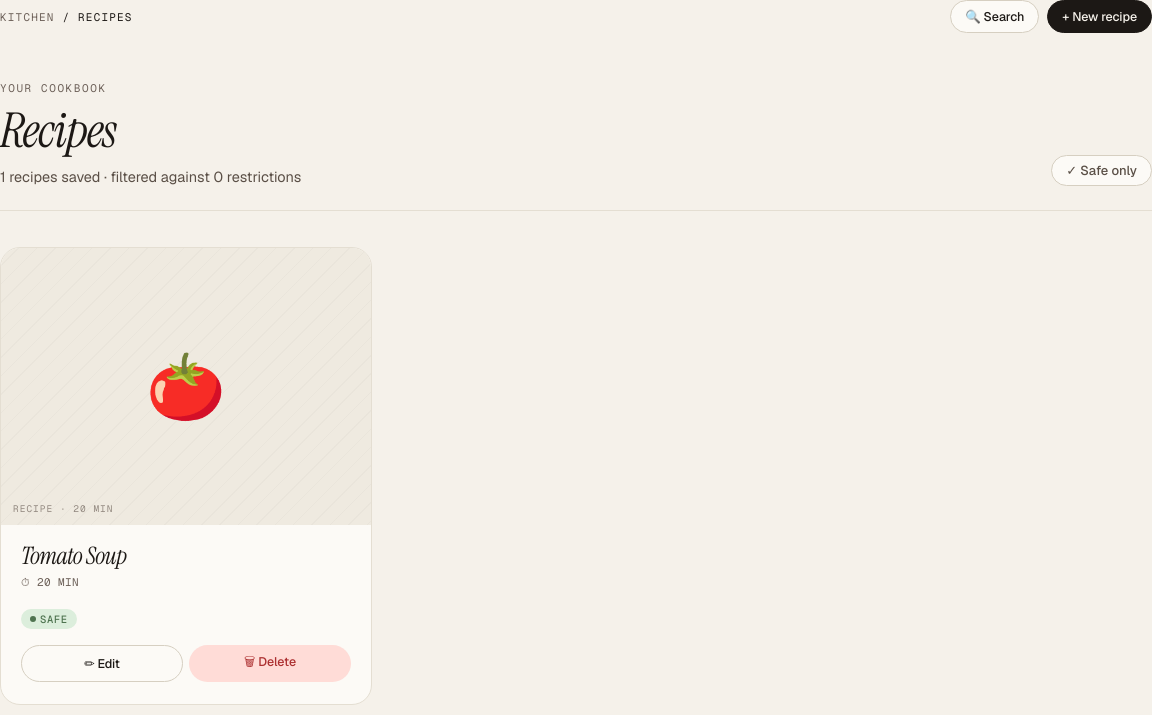
Test case: RecipesScreen – delete from detail view confirmation › shows a confirmation modal when Delete is clicked from the detail view
What coordinates should you click on to do the following:
click the text "Tomato Soup"
I would click on:
 (74, 556)
Its box is [21,540,126,572].
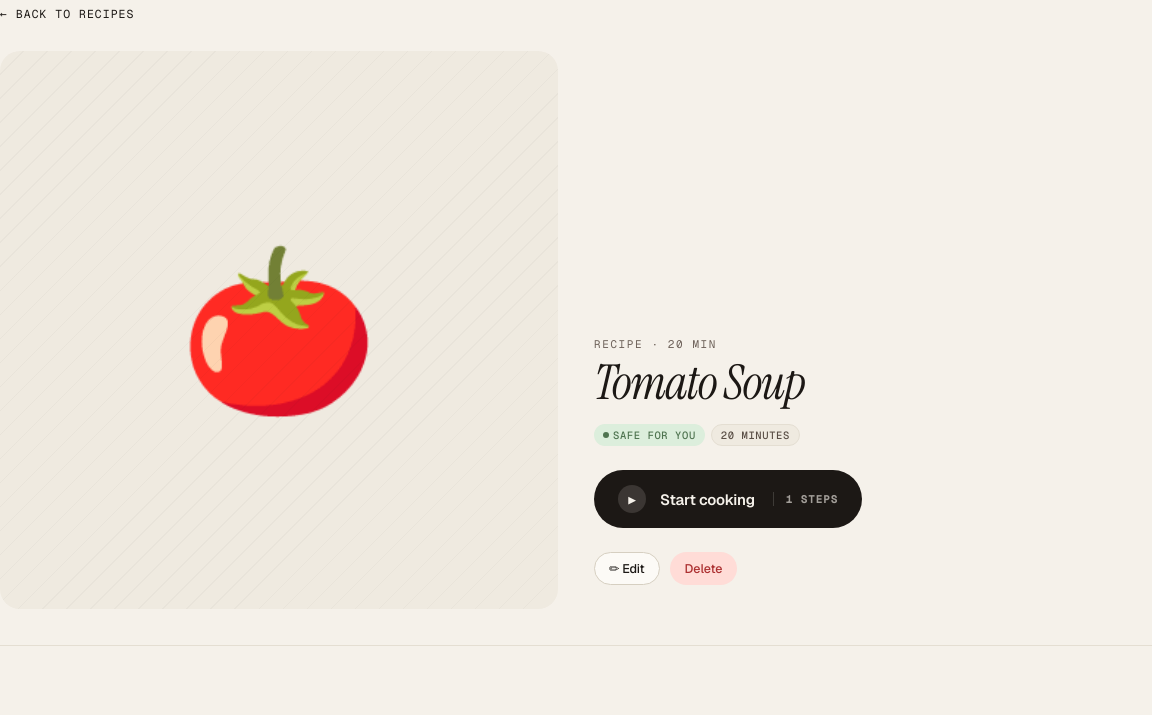
Expected: the button "← Back to recipes" is shown, [0,0,134,27]
What coordinates should you click on to do the following:
click the button "Delete"
I would click on:
 (703, 568)
Its box is [670,552,737,585].
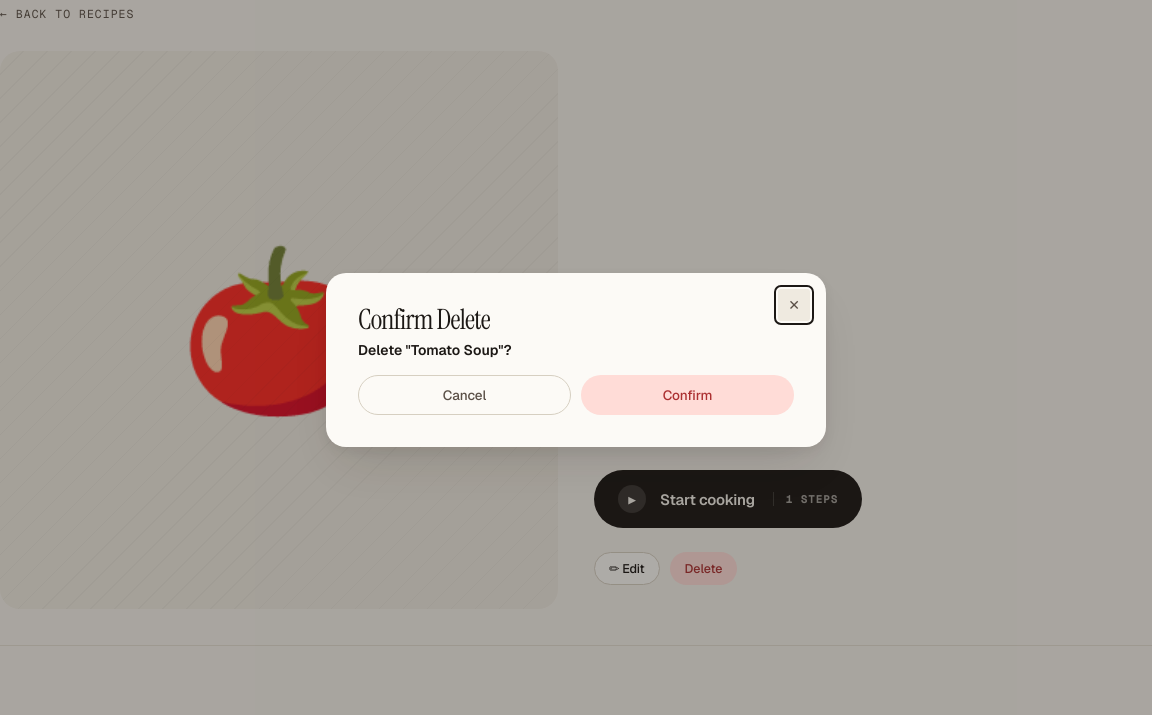
Expected: the text "Confirm Delete" is shown, [358,301,490,338]
